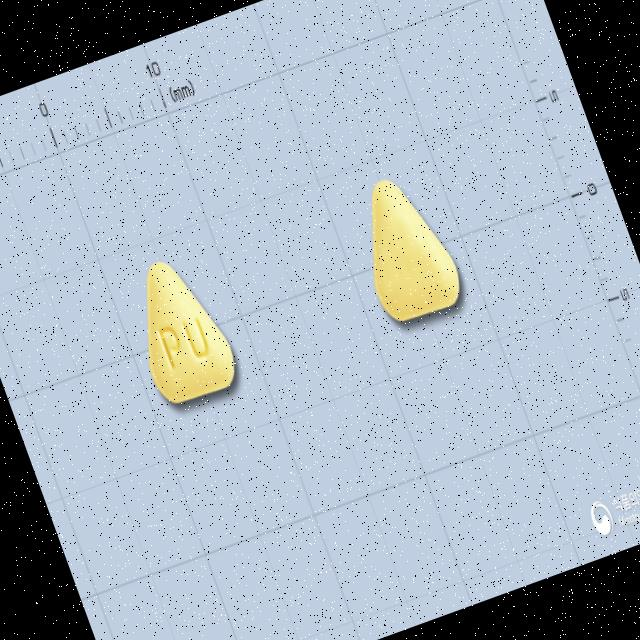Rheumakin Tab-20mg: (115, 246, 244, 408)
